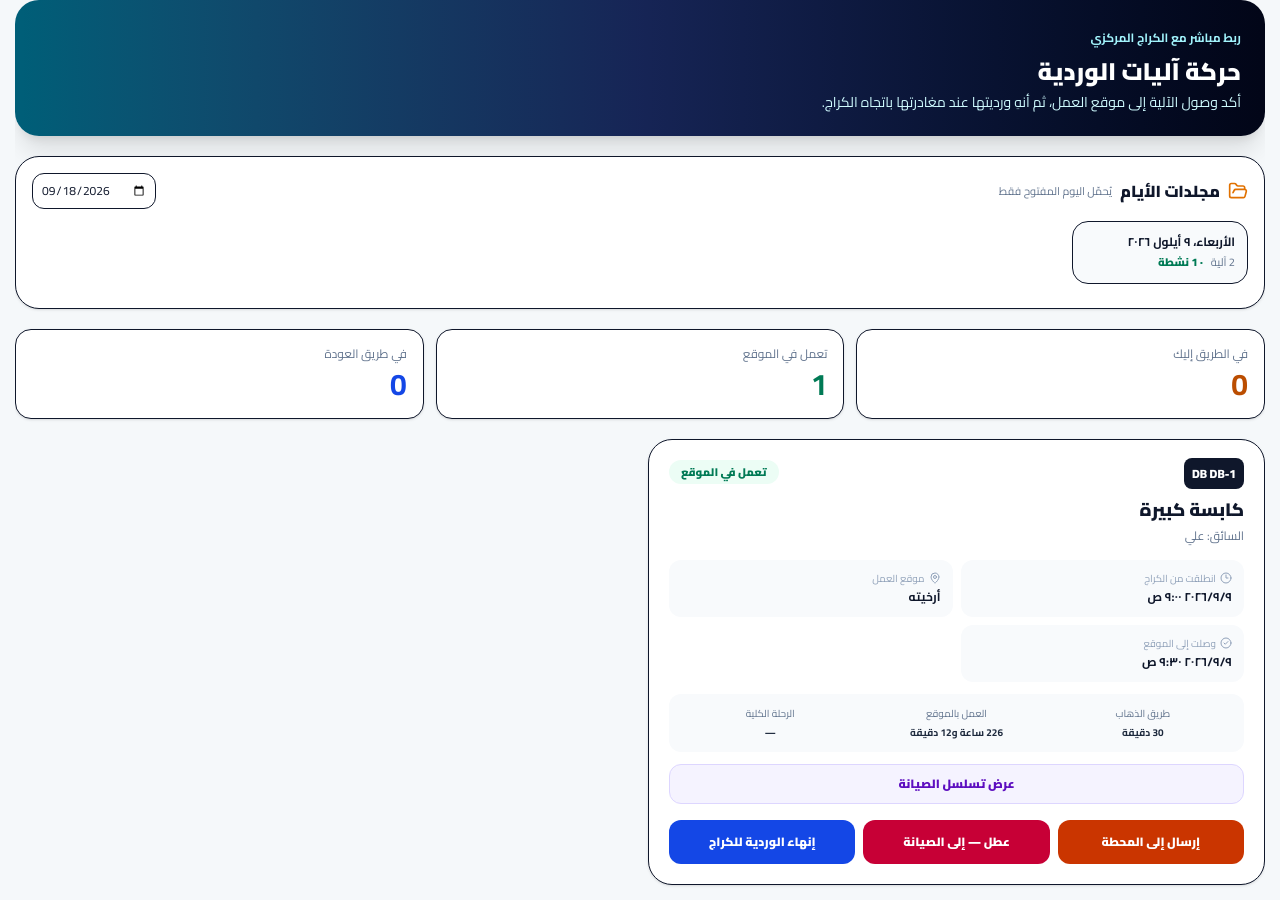
Test: صفحة حركة آليات مسؤول القسم › يعرض لمسؤول القسم التسلسل الزمني للحالة المرتبطة
Click the button "عرض تسلسل الصيانة": (956, 784) x1=669 y1=764 x2=1244 y2=804
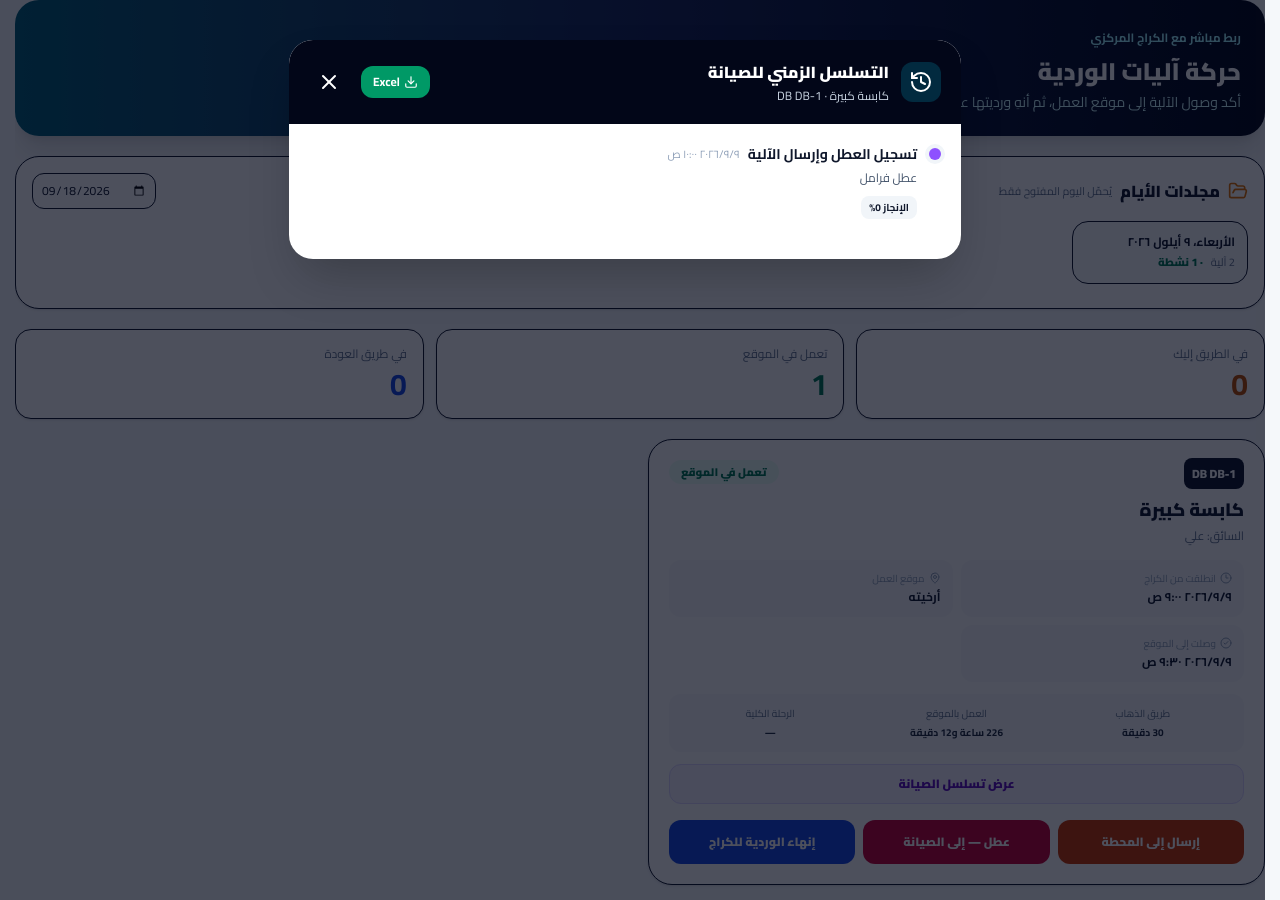
Result: the text "تسجيل العطل وإرسال الآلية" is shown at x1=748 y1=144 x2=917 y2=164
